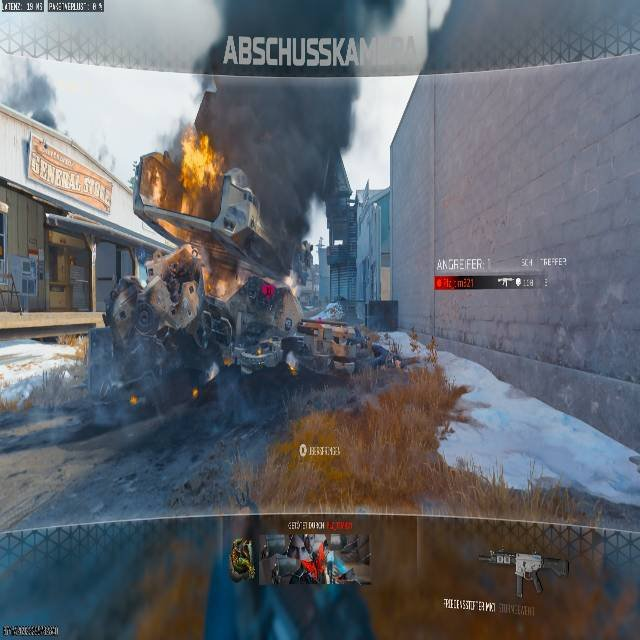player: (116, 123, 265, 417)
